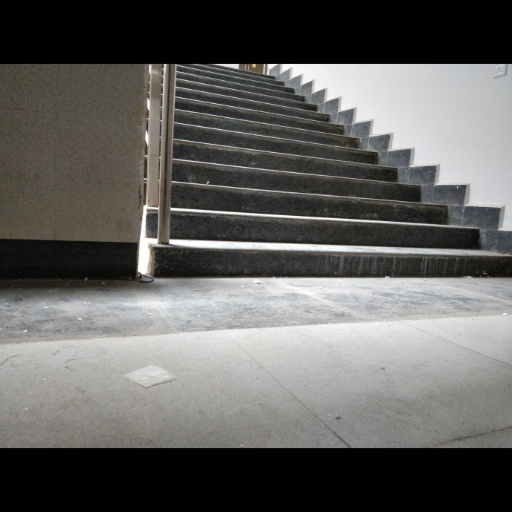Stairs: (150, 65, 512, 276)
